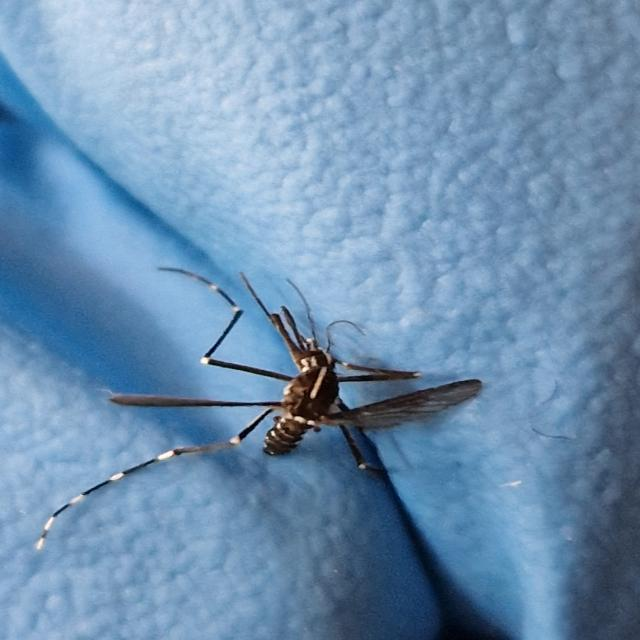albopictus: (37, 245, 512, 554)
